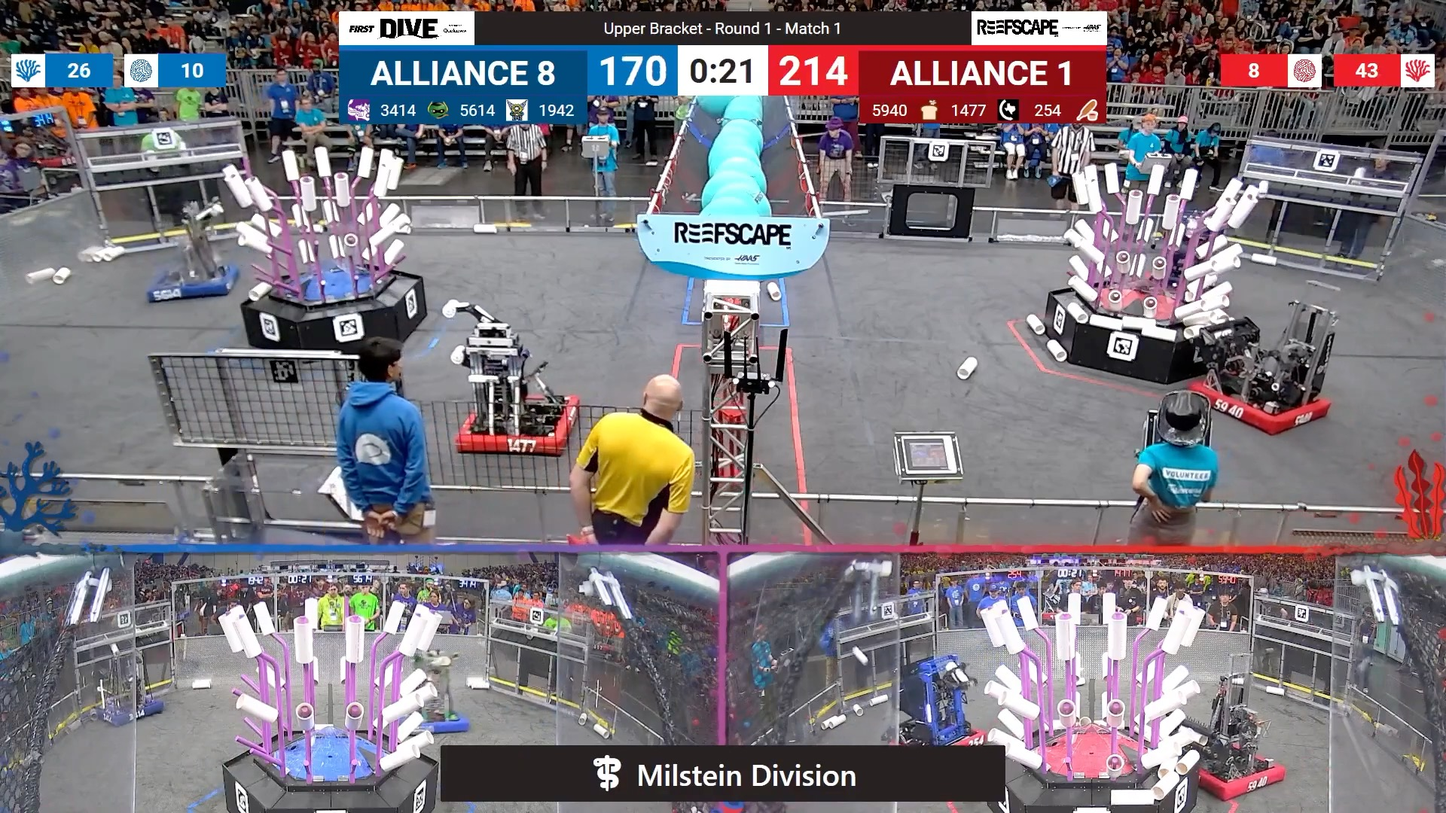bumpers: (1184, 368, 1344, 437), (449, 401, 583, 464), (1181, 749, 1290, 803), (144, 261, 249, 307), (88, 698, 170, 732), (888, 725, 996, 750), (401, 703, 477, 737)
